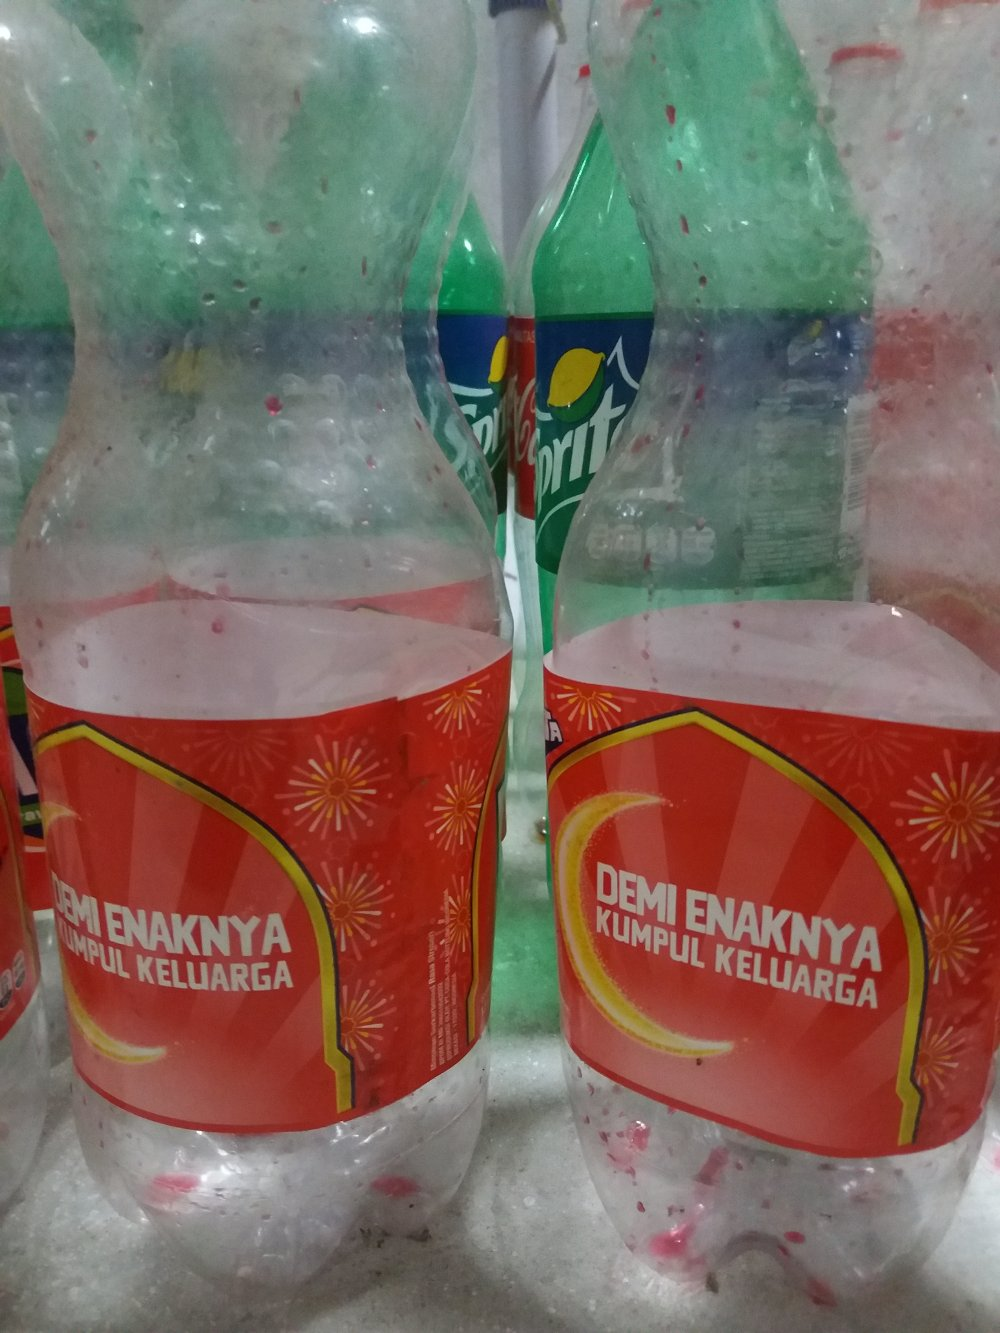botol: (507, 1, 987, 1279)
